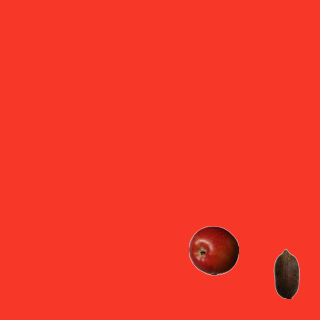Apple Braeburn: (188, 225, 238, 275)
Nut Pecan: (261, 248, 311, 298)
